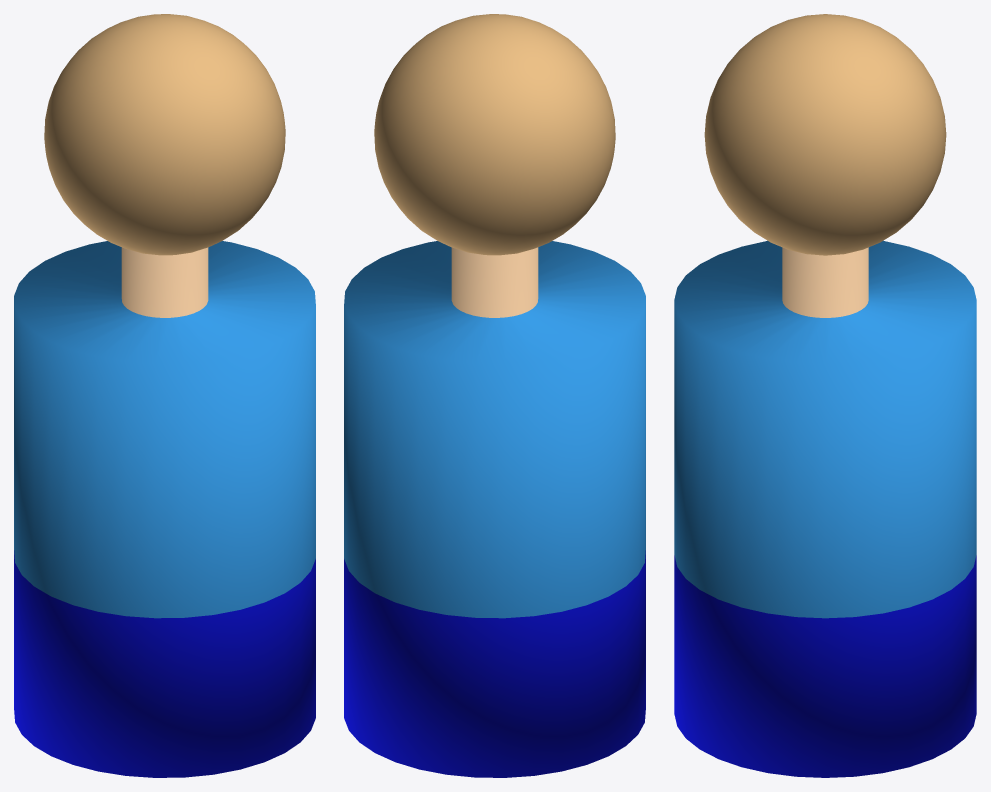
The model's file is Character_02.fbx.
3 renders of one model, left to right at view 1: azimuth 30°, elevation 25°; view 2: azimuth 150°, elevation 25°; view 3: azimuth 270°, elevation 25°, orthographic.
Parts seen in each view (by area): view 1: Circle.008, Icosphere.008; view 2: Circle.008, Icosphere.008; view 3: Circle.008, Icosphere.008.
Part boxes in pixels (x1,y1,x2,y2): Circle.008: (14, 241, 315, 777); Icosphere.008: (44, 14, 285, 255); Circle.008: (344, 241, 645, 777); Icosphere.008: (374, 14, 615, 255); Circle.008: (674, 240, 976, 777); Icosphere.008: (704, 14, 946, 255).
Bounding box in the file's own units: 200 × 503 × 200.
